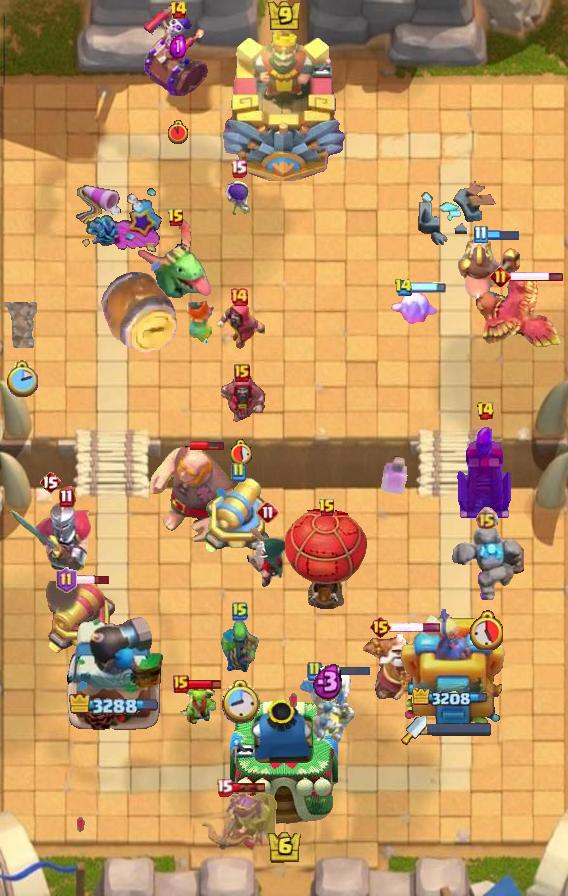balloon: (148, 445, 242, 545)
bar: (401, 601, 505, 731)
barbarian-hut: (196, 789, 280, 861)
bowler: (213, 300, 265, 350), (218, 373, 266, 425)
cannon-cart: (285, 507, 369, 609)
dirt: (98, 269, 180, 355)
electro-spirit: (312, 663, 344, 702), (170, 34, 186, 57)
electro-wizard: (138, 217, 214, 303)
elixir: (220, 679, 259, 724), (469, 610, 503, 650), (5, 359, 38, 397), (231, 439, 253, 465), (168, 120, 188, 144)
elixir-collector: (356, 630, 428, 702)
emote: (509, 270, 564, 283), (319, 665, 371, 677), (389, 623, 442, 634), (186, 678, 222, 691), (485, 228, 520, 241), (74, 574, 111, 586), (190, 440, 225, 452), (410, 283, 446, 294), (231, 782, 266, 793)
fisherman: (2, 302, 40, 348)
freeze: (455, 234, 525, 306)
giant-snowball: (220, 618, 260, 676)
goblin: (223, 180, 253, 220)
hog-rider: (182, 296, 220, 348)
ice-spirit-evolution-symbol: (455, 424, 515, 520)
king-tower: (220, 21, 348, 181), (230, 698, 338, 826)
king-tower-bar: (427, 723, 491, 736)
knight-evolution: (380, 456, 408, 496)
mini-pekka: (296, 667, 360, 749)
mirror: (389, 290, 439, 328)
mother-witch: (469, 276, 565, 352)
royal-recruit: (43, 581, 121, 657), (202, 475, 274, 557)
selected: (69, 694, 159, 718), (412, 688, 494, 710)
skeleton-king-bar: (143, 0, 213, 100)
tesla: (245, 526, 291, 590)
text: (256, 500, 280, 524), (475, 506, 498, 530), (368, 615, 391, 639), (55, 567, 76, 593), (39, 470, 61, 494), (490, 266, 511, 287), (229, 287, 249, 307), (168, 0, 187, 20), (477, 401, 496, 421), (395, 279, 414, 298), (167, 208, 185, 228), (318, 498, 336, 518), (215, 778, 233, 797), (229, 159, 247, 177), (230, 462, 246, 482), (232, 601, 248, 621), (306, 661, 322, 681), (234, 364, 250, 382), (173, 675, 189, 693), (472, 225, 487, 244)
tower-bar: (63, 615, 165, 731)
valkyrie-evolution: (448, 528, 524, 606)
wall-breaker-evolution: (7, 485, 93, 577)
zap: (176, 684, 216, 726)
